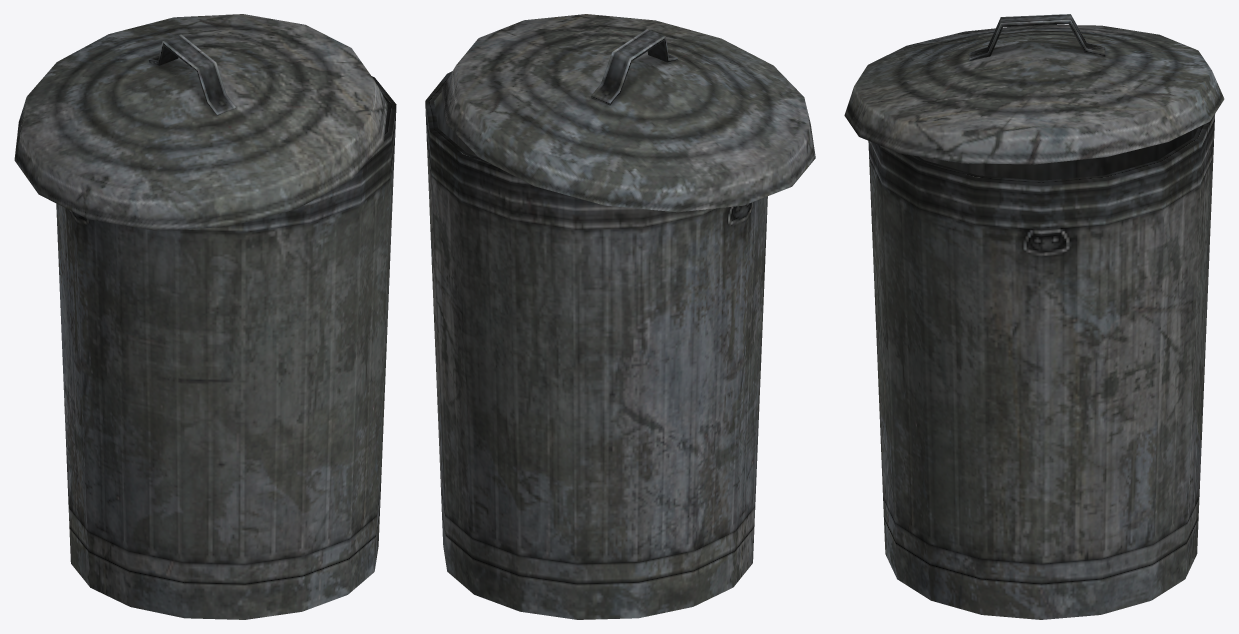
The model's file is Trash1.fbx.
The picture shows the model from 3 angles, left to right: view 1: azimuth 30°, elevation 25°; view 2: azimuth 150°, elevation 25°; view 3: azimuth 270°, elevation 25°; orthographic projection.
Visible parts, largest first — view 1: polySurface7; view 2: polySurface7; view 3: polySurface7.
Boxes of the visible parts, bbox=[...] form: polySurface7: bbox=[14, 14, 396, 619]; polySurface7: bbox=[425, 14, 815, 619]; polySurface7: bbox=[844, 14, 1224, 619].
Bounding box in the file's own units: 0.7941 × 1.16 × 0.7665.
